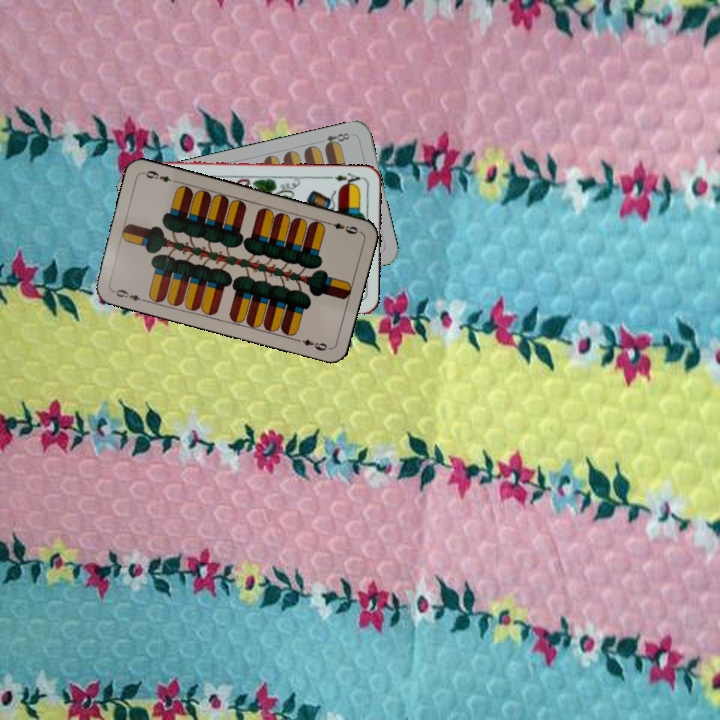E8: (315, 129, 352, 150)
E9: (322, 218, 362, 237), (109, 285, 148, 304)
EA: (325, 169, 365, 188)
